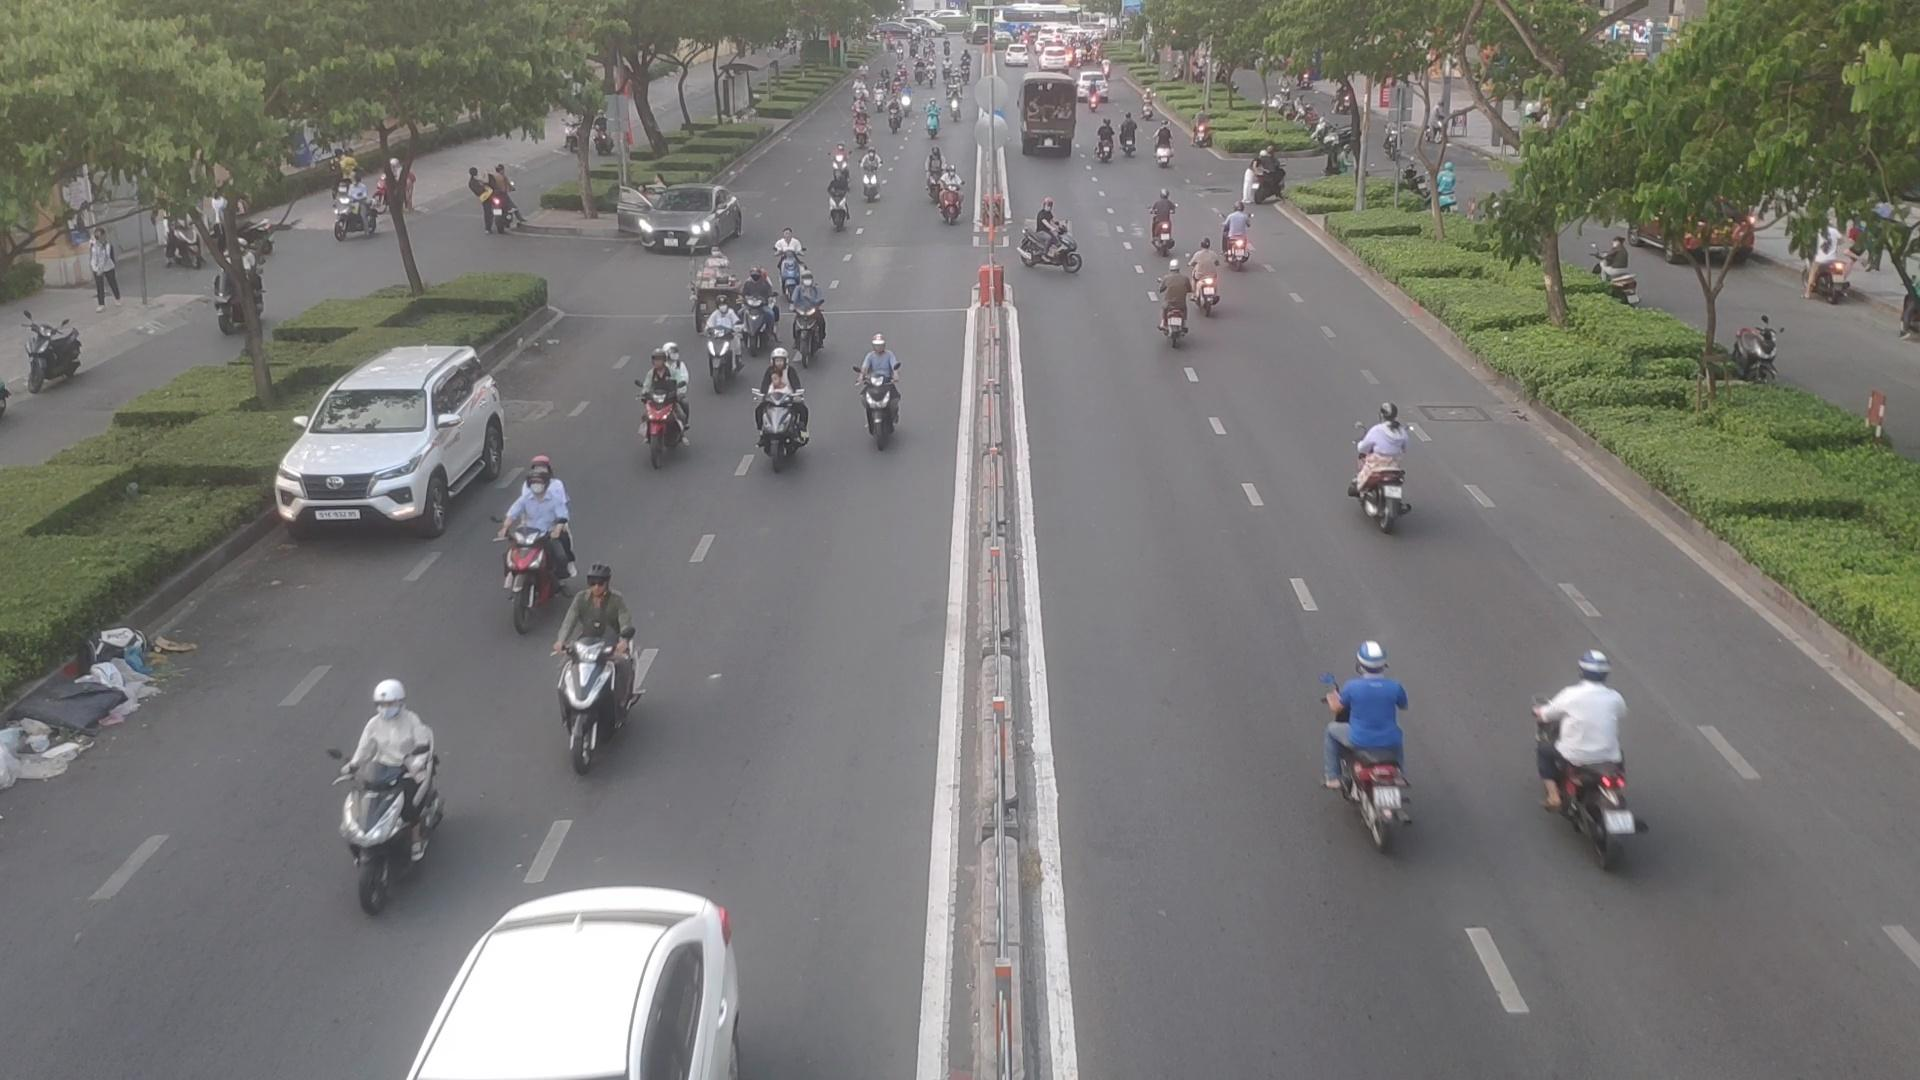car: (419, 884, 742, 1080), (272, 345, 512, 535), (620, 189, 746, 257)
motorbike: (342, 679, 444, 891), (1543, 634, 1636, 844), (1323, 640, 1422, 833), (554, 550, 634, 775), (498, 454, 576, 615), (640, 313, 688, 464), (1357, 404, 1418, 524), (856, 326, 906, 450), (760, 342, 810, 454), (1019, 206, 1089, 284), (1184, 236, 1229, 316), (791, 276, 829, 363), (707, 299, 740, 394), (1218, 203, 1263, 269), (1149, 175, 1183, 260), (737, 270, 769, 353), (1166, 256, 1193, 347), (1244, 153, 1291, 204), (819, 169, 857, 229), (940, 169, 967, 229), (857, 140, 884, 200), (1150, 119, 1179, 170), (1101, 121, 1117, 160)
